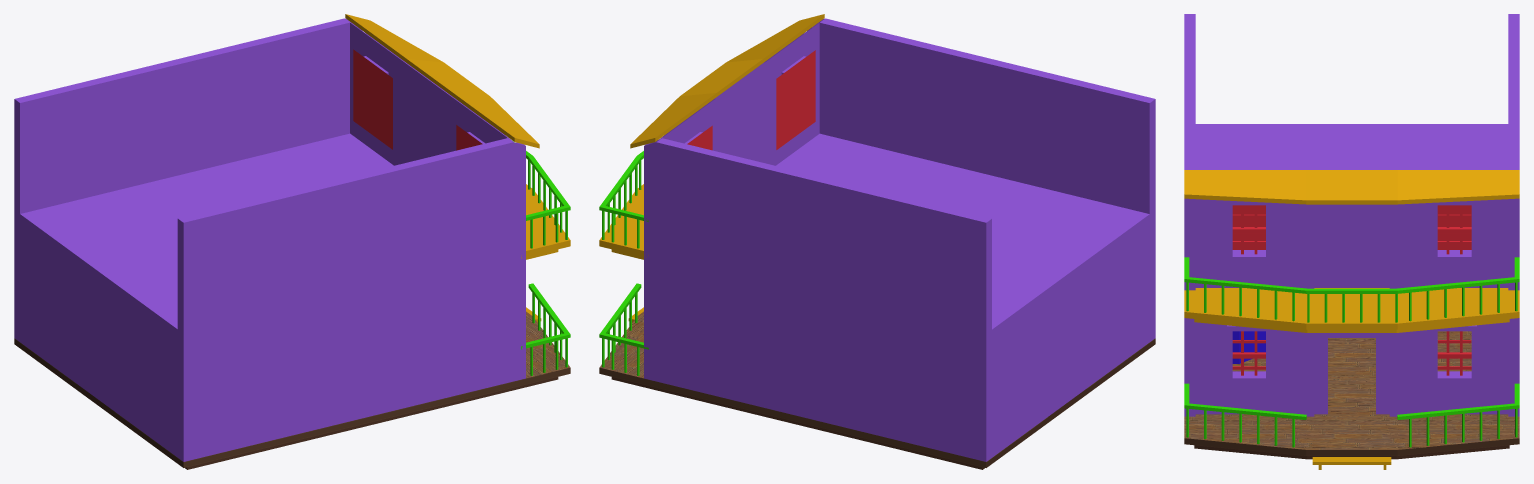
File: bank.fbx
3 renders of one model, left to right at view 1: azimuth 30°, elevation 25°; view 2: azimuth 150°, elevation 25°; view 3: azimuth 270°, elevation 25°, orthographic.
Visible parts, largest first — view 1: Cube.002, Cube, Cube.010, Cube.009, Cube.004; view 2: Cube.002, Cube, Cube.010, Cube.009, Cube.004; view 3: Cube.002, Cube.010, Cube, Cube.004, Cube.009, Cube.060.
Part boxes in pixels (x1,y1,x2,y2): Cube.002: (14, 18, 525, 461); Cube: (14, 311, 570, 469); Cube.010: (345, 14, 570, 322); Cube.009: (353, 49, 482, 150); Cube.004: (512, 140, 570, 375); Cube.002: (644, 18, 1155, 461); Cube: (599, 311, 1155, 469); Cube.010: (599, 14, 824, 322); Cube.009: (687, 50, 815, 150); Cube.004: (599, 151, 648, 375); Cube.002: (1184, 14, 1519, 416); Cube.010: (1184, 170, 1519, 469); Cube: (1184, 331, 1519, 459); Cube.004: (1184, 257, 1519, 447); Cube.009: (1232, 205, 1471, 375); Cube.060: (1232, 331, 1265, 363).
Size of what is drawn, in the model's own units: 1233 by 720 by 855.
